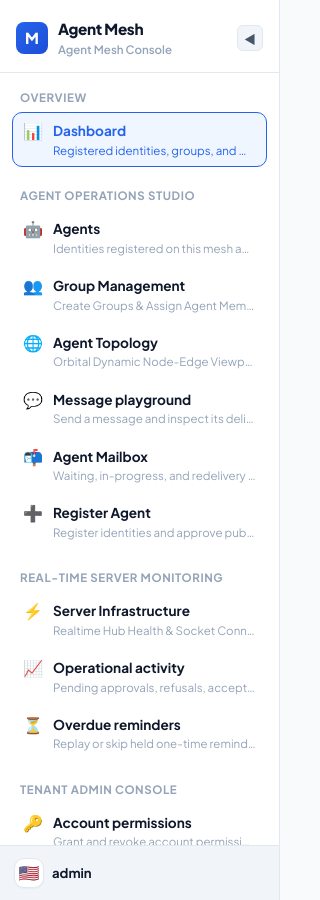
Test: Sidebar collapse › keeps every destination when the labels go away
Click the button "◀". click: (250, 38)
box: [237, 25, 263, 51]
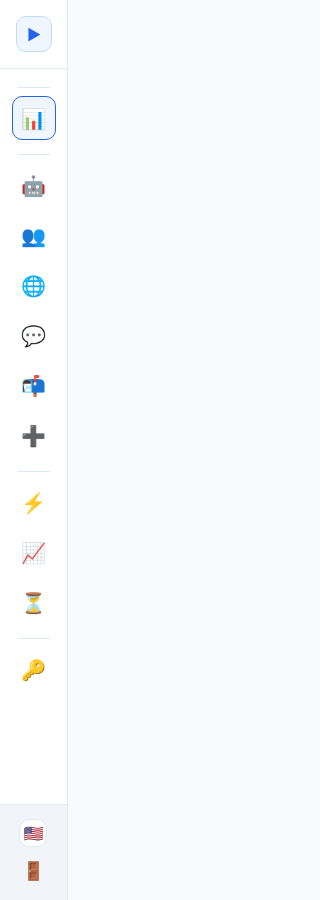
expect the text "Dashboard" is gone: met
expect the text "Tenant Admin Console" is gone: met
